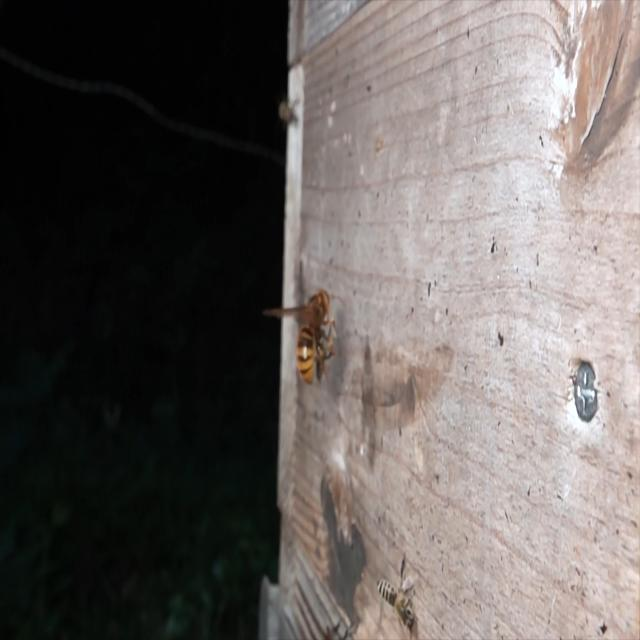Bees: (377, 557, 416, 634)
Hornets: (294, 287, 343, 390)
